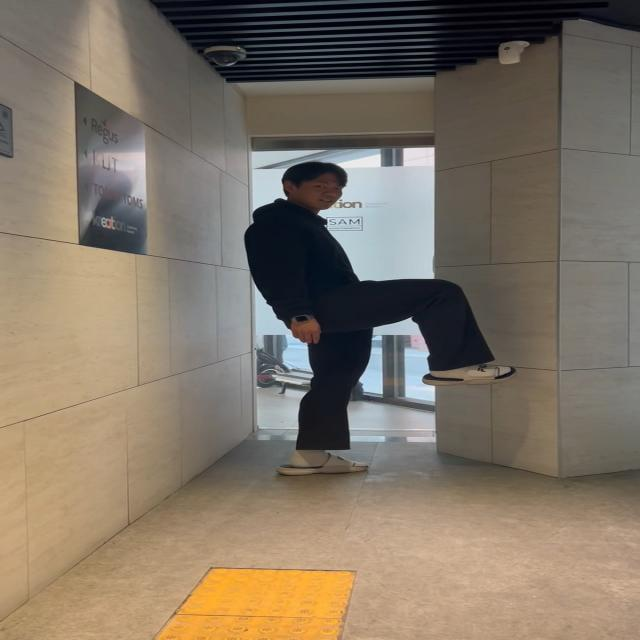knee: (289, 282, 522, 385)
